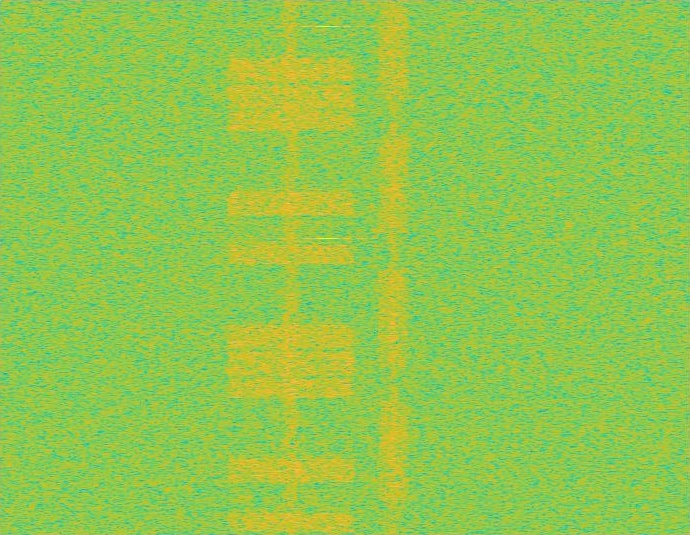5G: (376, 0, 411, 534)
DSSS: (282, 0, 301, 534), (390, 0, 397, 534)
LTE: (222, 0, 360, 534)
Radar: (320, 0, 334, 534)
